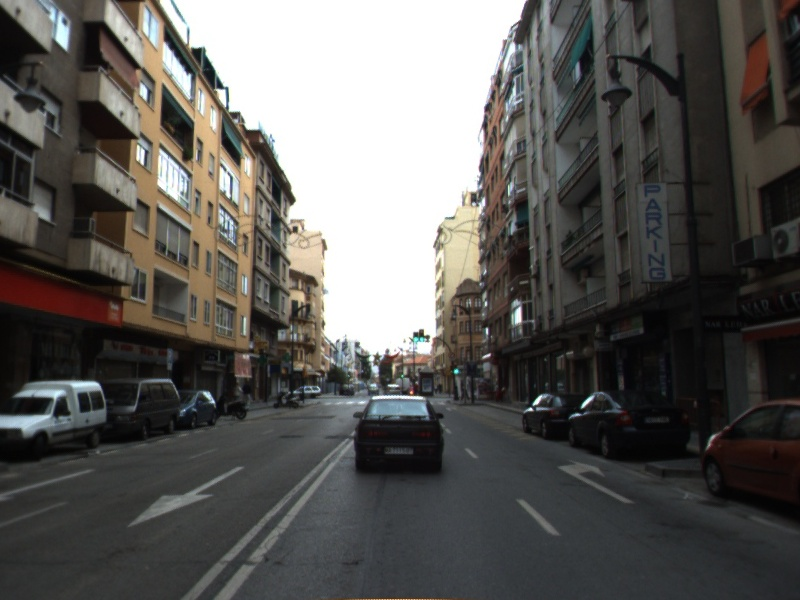RIGHT: (556, 458, 636, 505)
